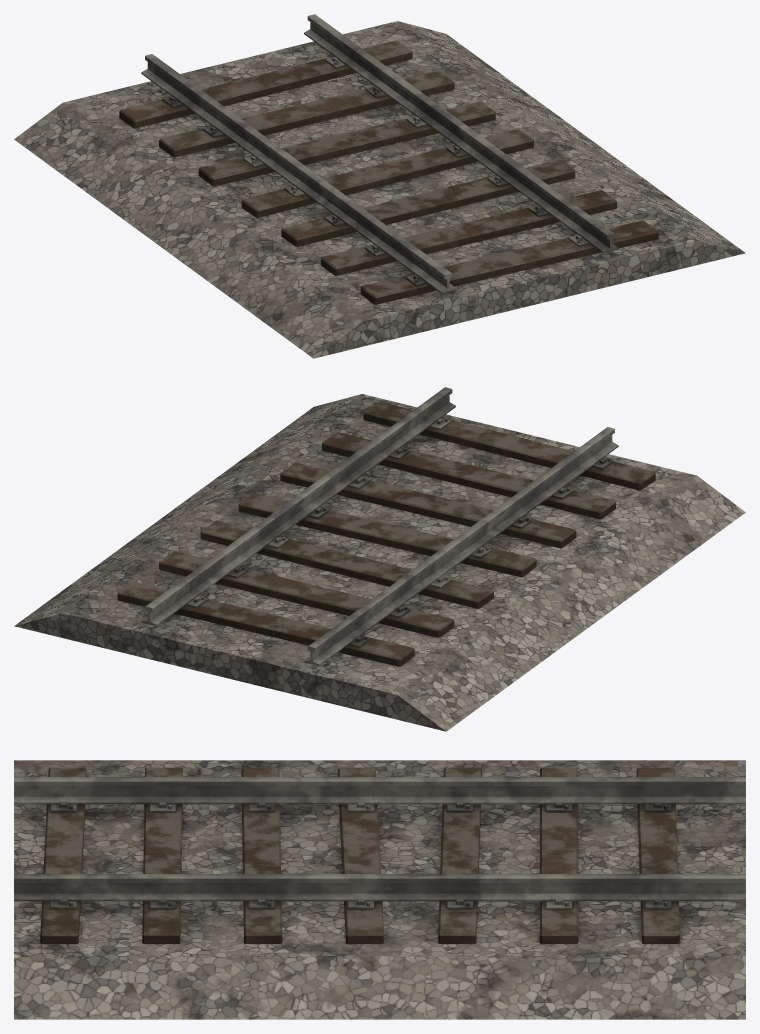
File: RailTrack.fbx
3 renders of one model, top to bottom at view 1: azimuth 30°, elevation 25°; view 2: azimuth 150°, elevation 25°; view 3: azimuth 270°, elevation 25°, orthographic. The views are drawn at different scales.
Visible parts, largest first — view 1: RailTrack; view 2: RailTrack; view 3: RailTrack.
Boxes of the visible parts, left/top/right/bottom form: RailTrack: left=14, top=14, right=745, bottom=358; RailTrack: left=14, top=387, right=745, bottom=731; RailTrack: left=14, top=760, right=745, bottom=1019.
Size of the model in its own units: 12 by 1.37 by 14.4.
Materials: 1 (1 with a texture image).
